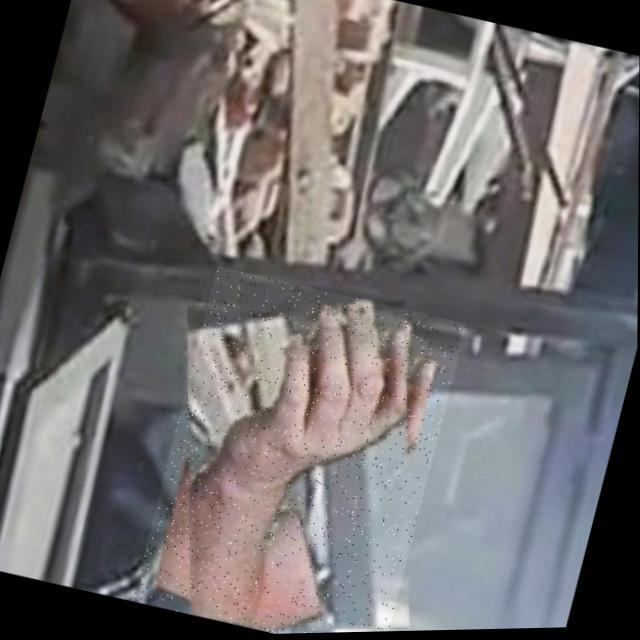Person in Rubble: (131, 263, 466, 638)
